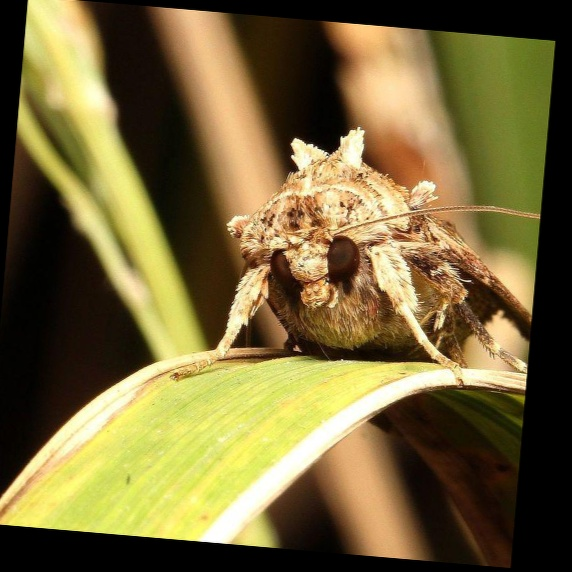Spodoptera litura: (180, 125, 535, 395)
